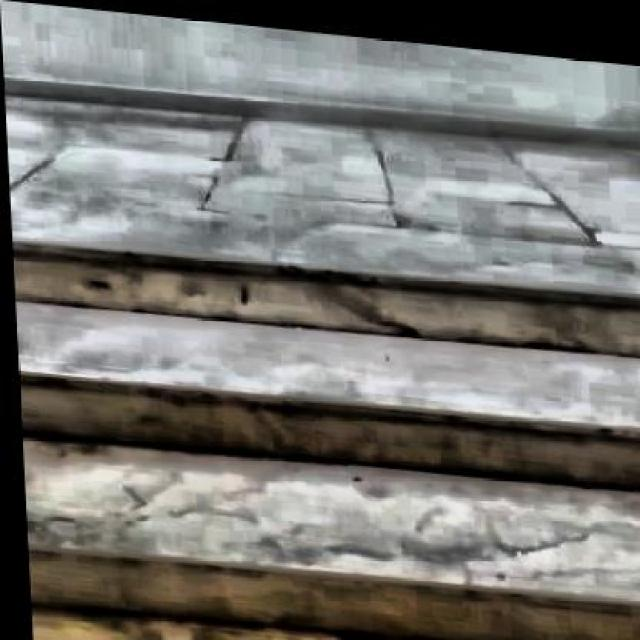stair: (9, 231, 638, 638)
